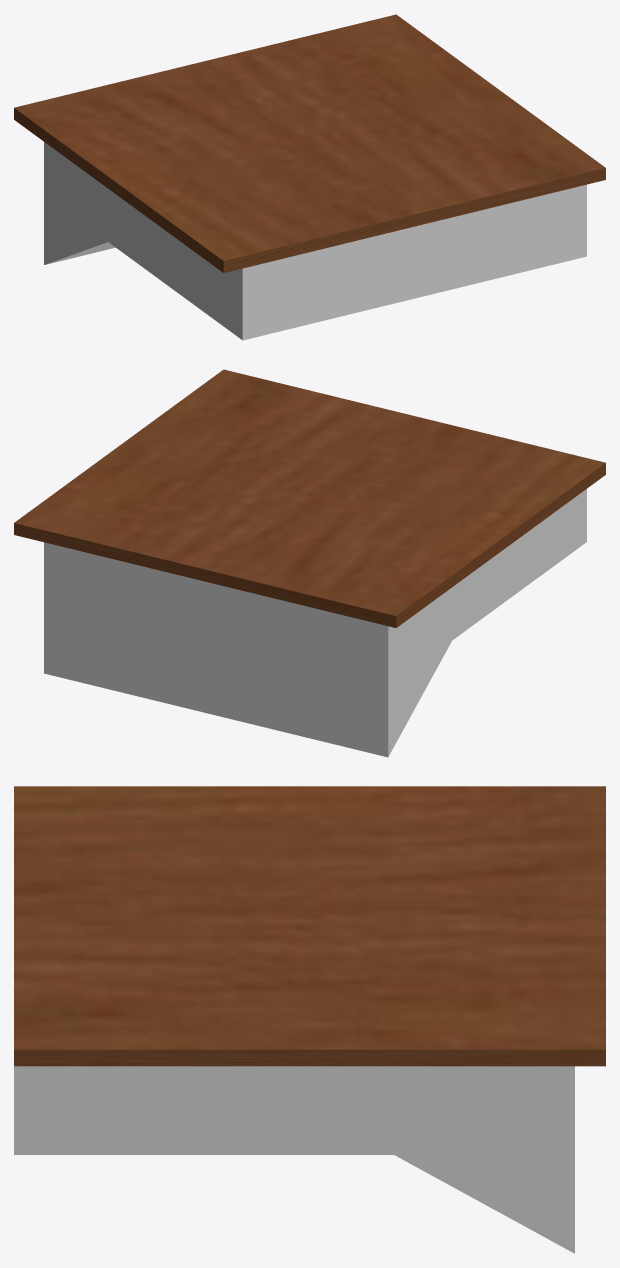
File: LandingFull.glb
The picture shows the model from 3 angles, top to bottom: view 1: azimuth 30°, elevation 25°; view 2: azimuth 150°, elevation 25°; view 3: azimuth 270°, elevation 25°; orthographic projection. The views are drawn at different scales.
Visible parts, largest first — view 1: Cube, Cube.001; view 2: Cube, Cube.001; view 3: Cube, Cube.001.
Part boxes in pixels (x1,y1,x2,y2): Cube: (14, 14, 605, 272); Cube.001: (44, 142, 586, 340); Cube: (14, 369, 605, 627); Cube.001: (44, 489, 586, 757); Cube: (14, 786, 605, 1066); Cube.001: (14, 1066, 574, 1253).
Size of the model in its own units: 1 by 0.385 by 0.95.
1 material, 1 textured.
